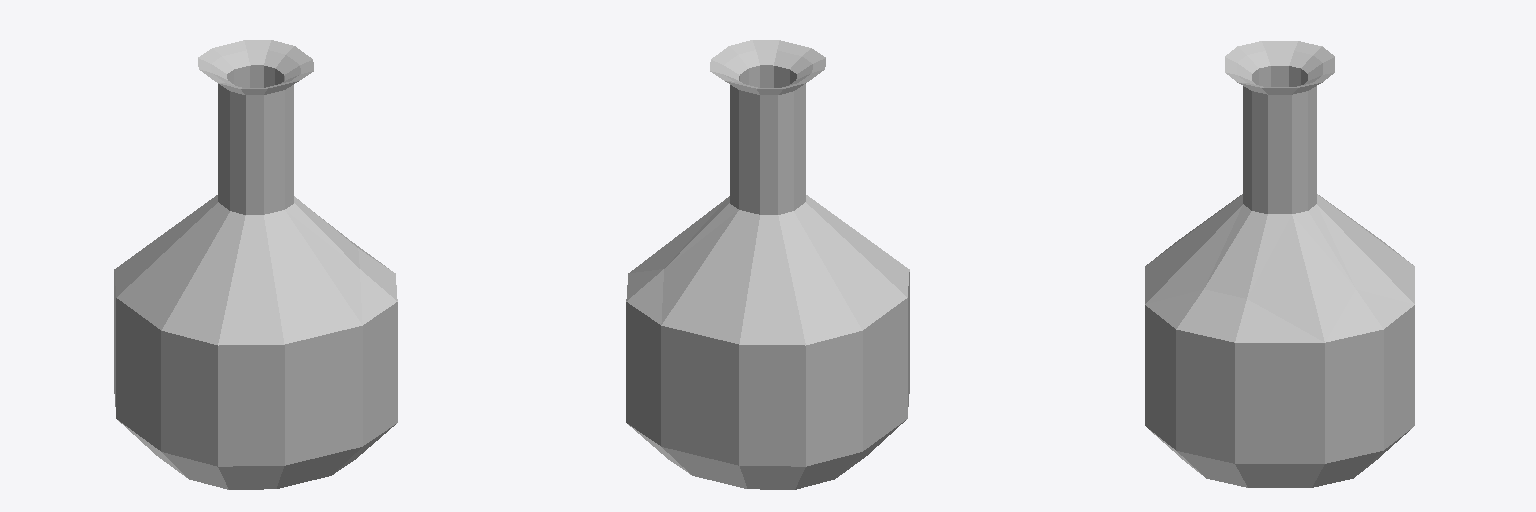
The model's file is stand_flask_itself.obj.
3 renders of one model, left to right at view 1: azimuth 30°, elevation 25°; view 2: azimuth 150°, elevation 25°; view 3: azimuth 270°, elevation 25°, orthographic.
Parts seen in each view (by area): view 1: Flask_Plane; view 2: Flask_Plane; view 3: Flask_Plane.
Boxes of the visible parts, box(x1,y1,x2,y2) form: Flask_Plane: box(114, 40, 397, 489); Flask_Plane: box(626, 40, 909, 489); Flask_Plane: box(1145, 41, 1414, 487).
Bounding box in the file's own units: 0.2875 × 0.4494 × 0.2875.